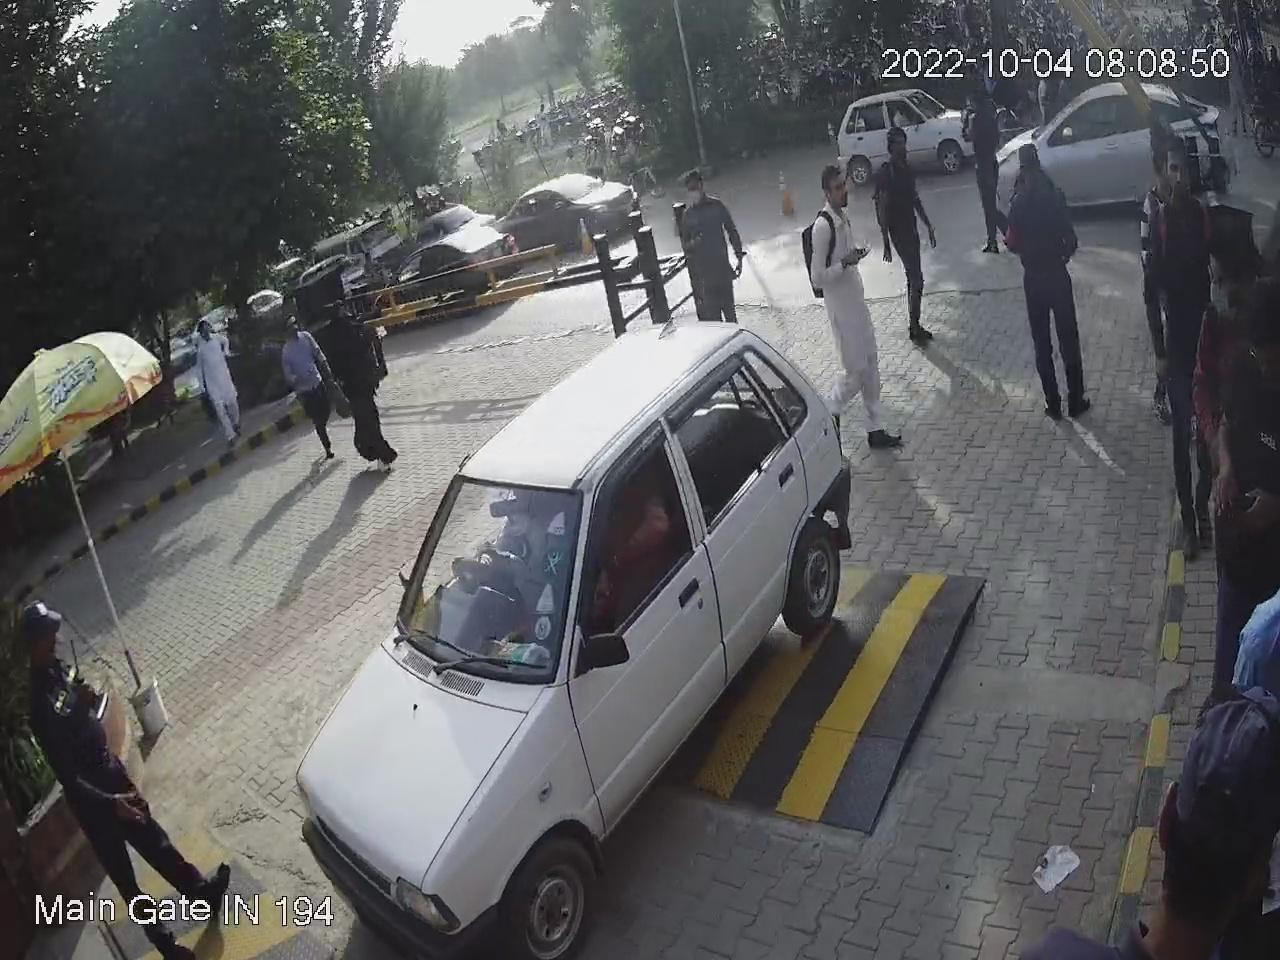windshield: (393, 468, 591, 693)
